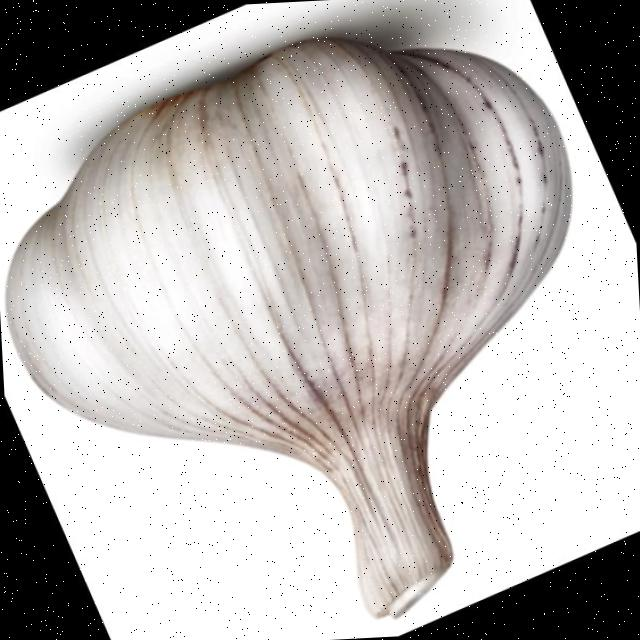garlic: (6, 40, 570, 616)
